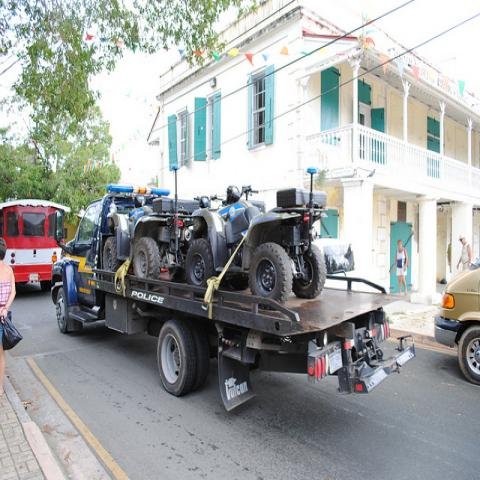bus: (1, 199, 72, 291)
car: (434, 260, 479, 388)
truck: (51, 168, 420, 411)
